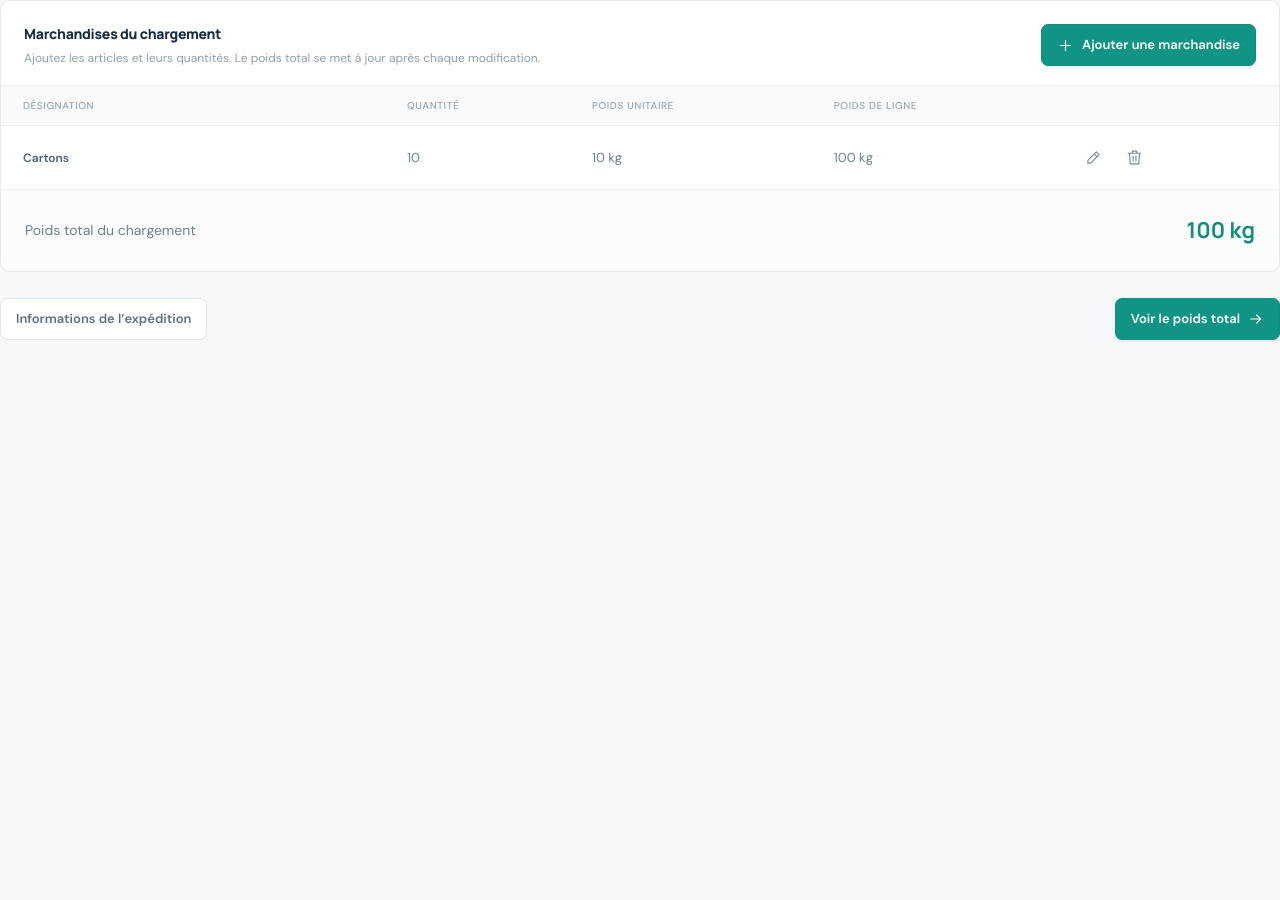
Test: ajoute une ligne et affiche le poids recalculé par le service
Click the button "Ajouter une marchandise": (1149, 45) left=1041, top=24, right=1256, bottom=66
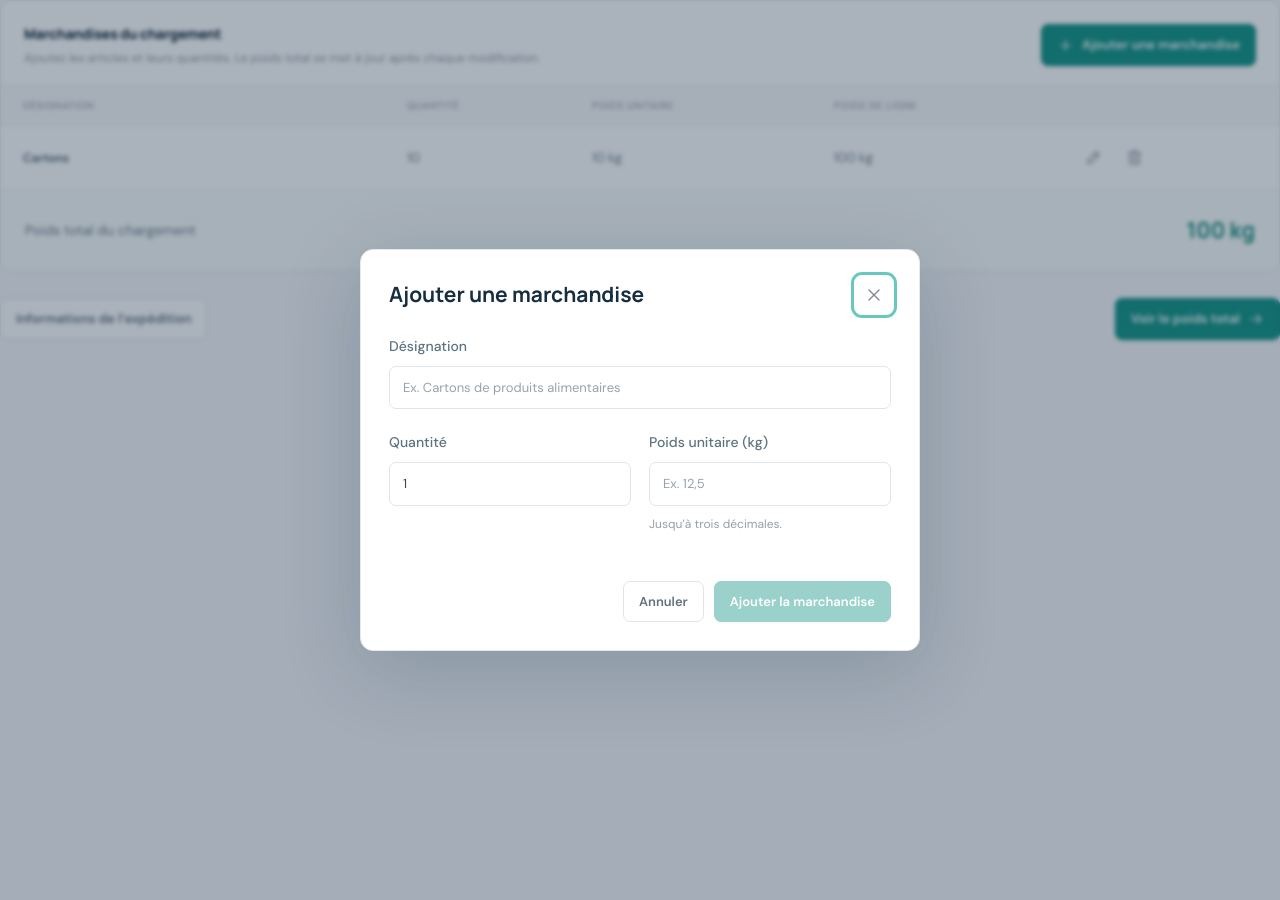
In the field labelled "Désignation": (640, 388) left=389, top=366, right=891, bottom=409, type "Sacs"
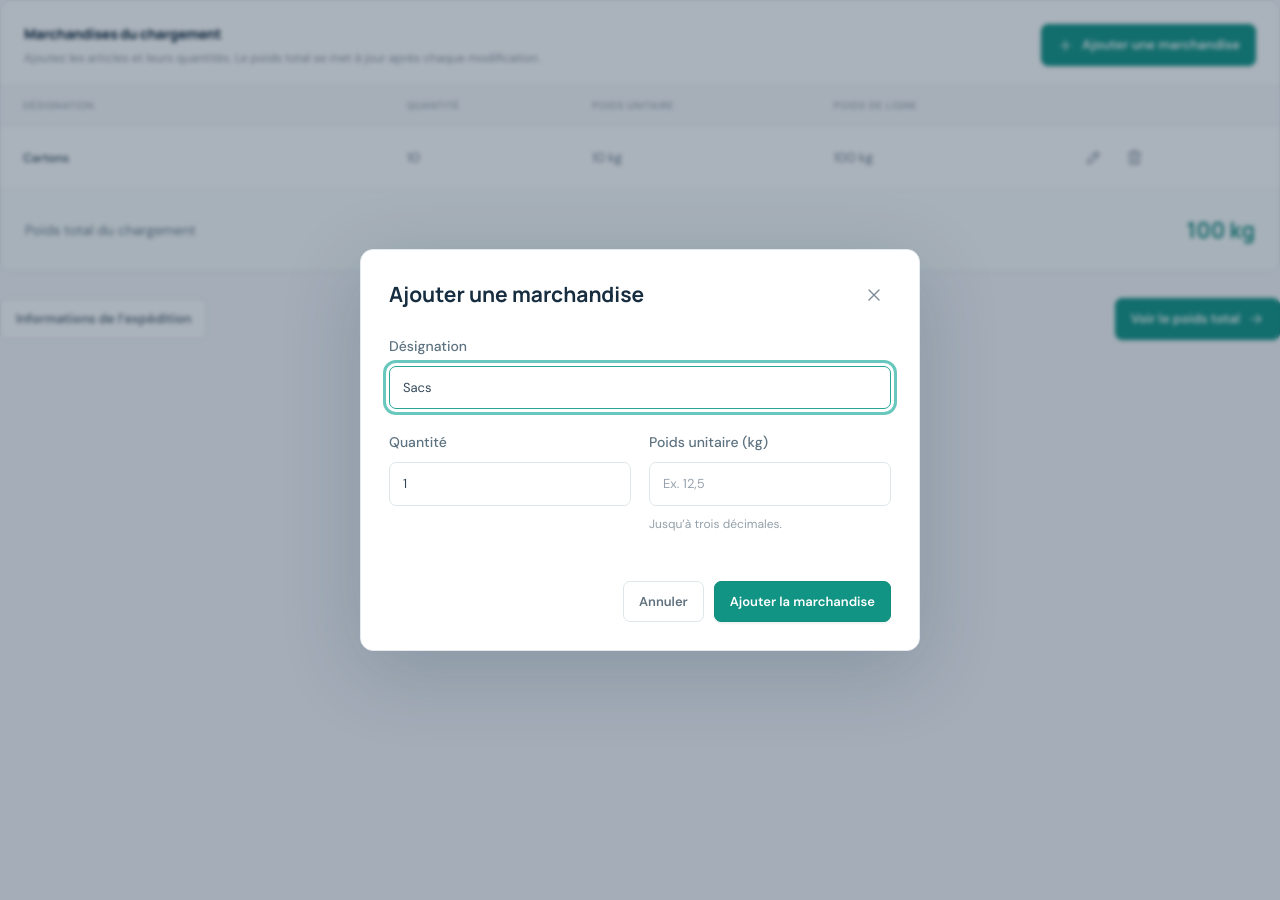
Replace the text in the number field labelled "Quantité" with "2": (510, 484) left=389, top=462, right=631, bottom=506
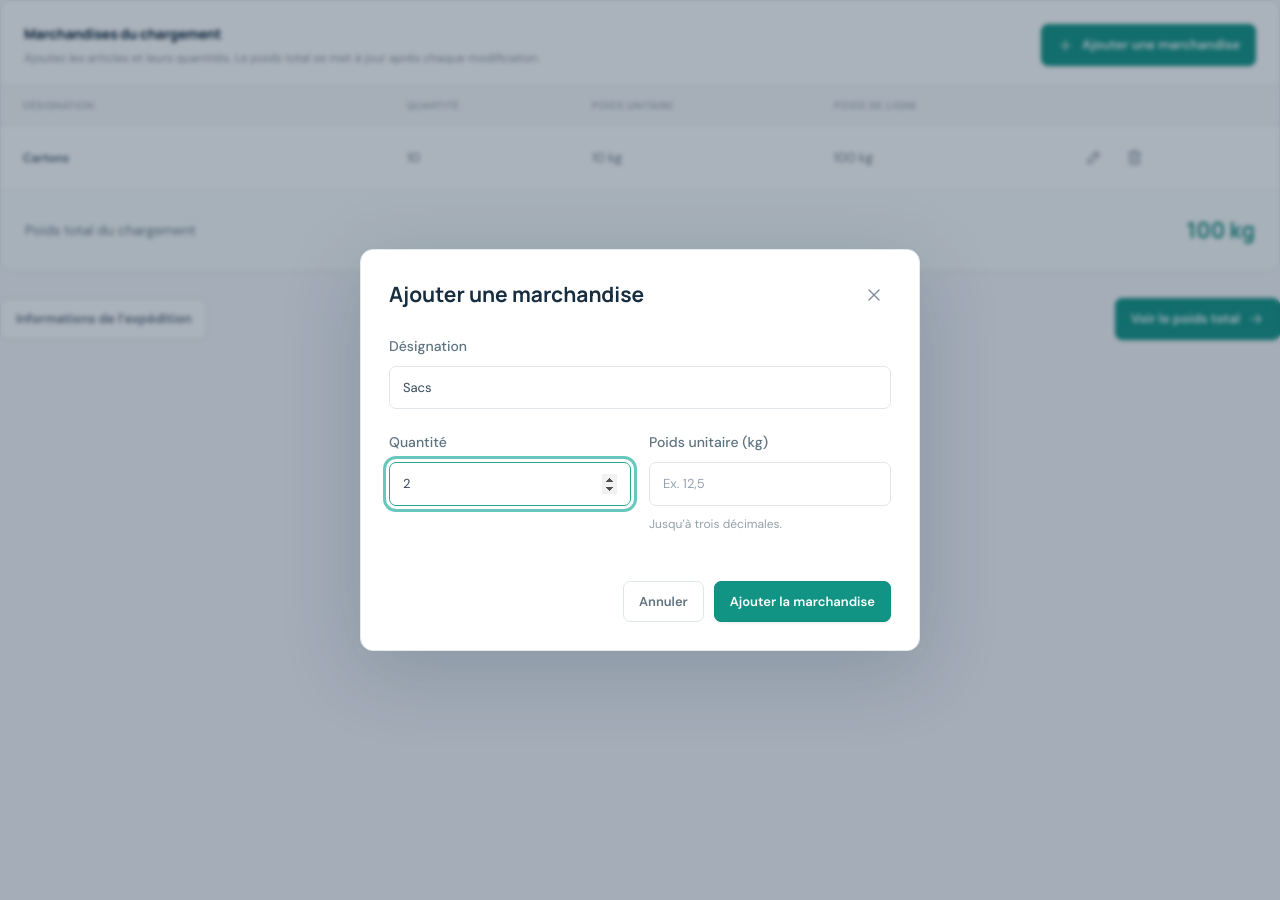
In the number field labelled "Poids unitaire (kg)": (770, 484) left=649, top=462, right=891, bottom=506, type "25"
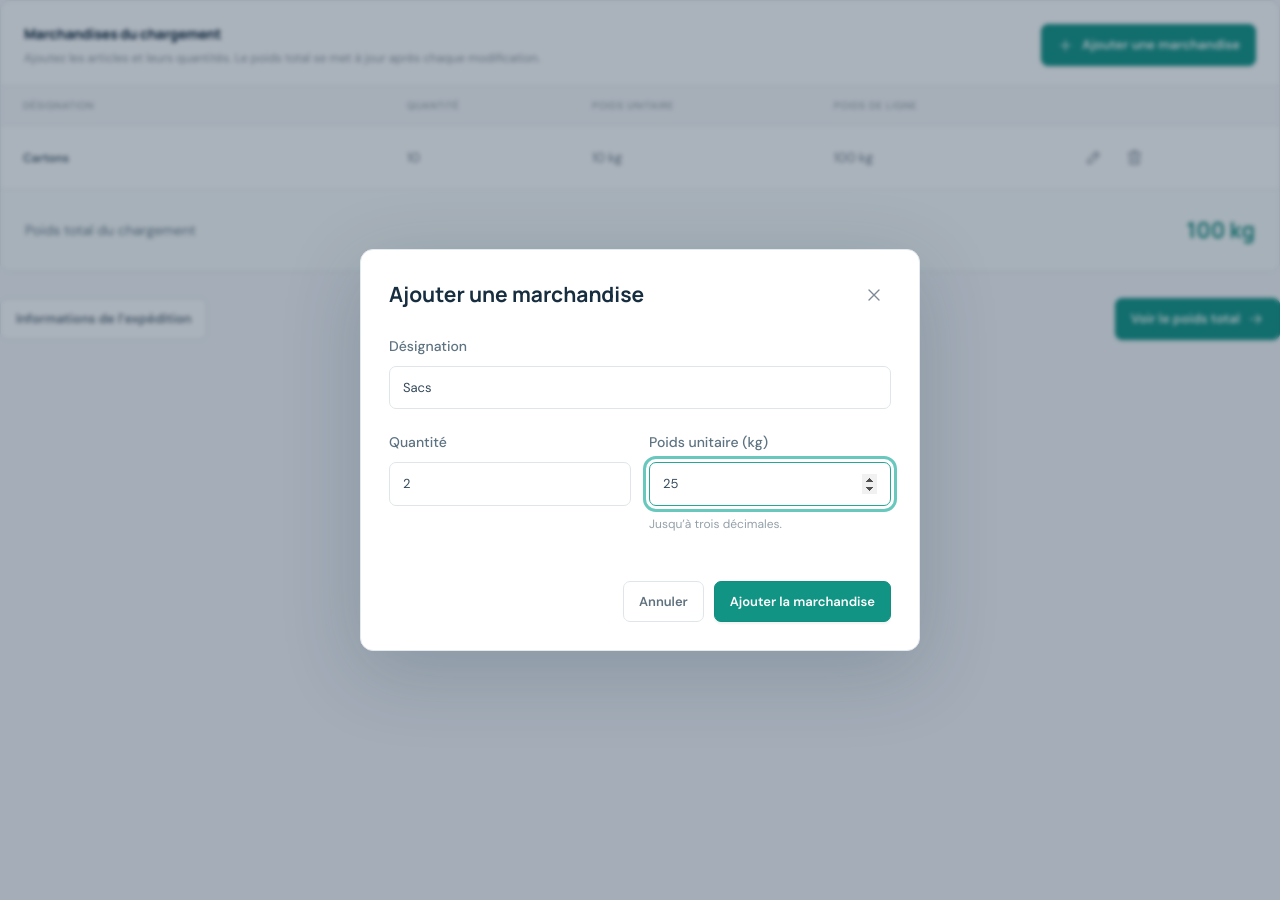
Click the button "Ajouter la marchandise": (802, 602) left=714, top=581, right=891, bottom=622
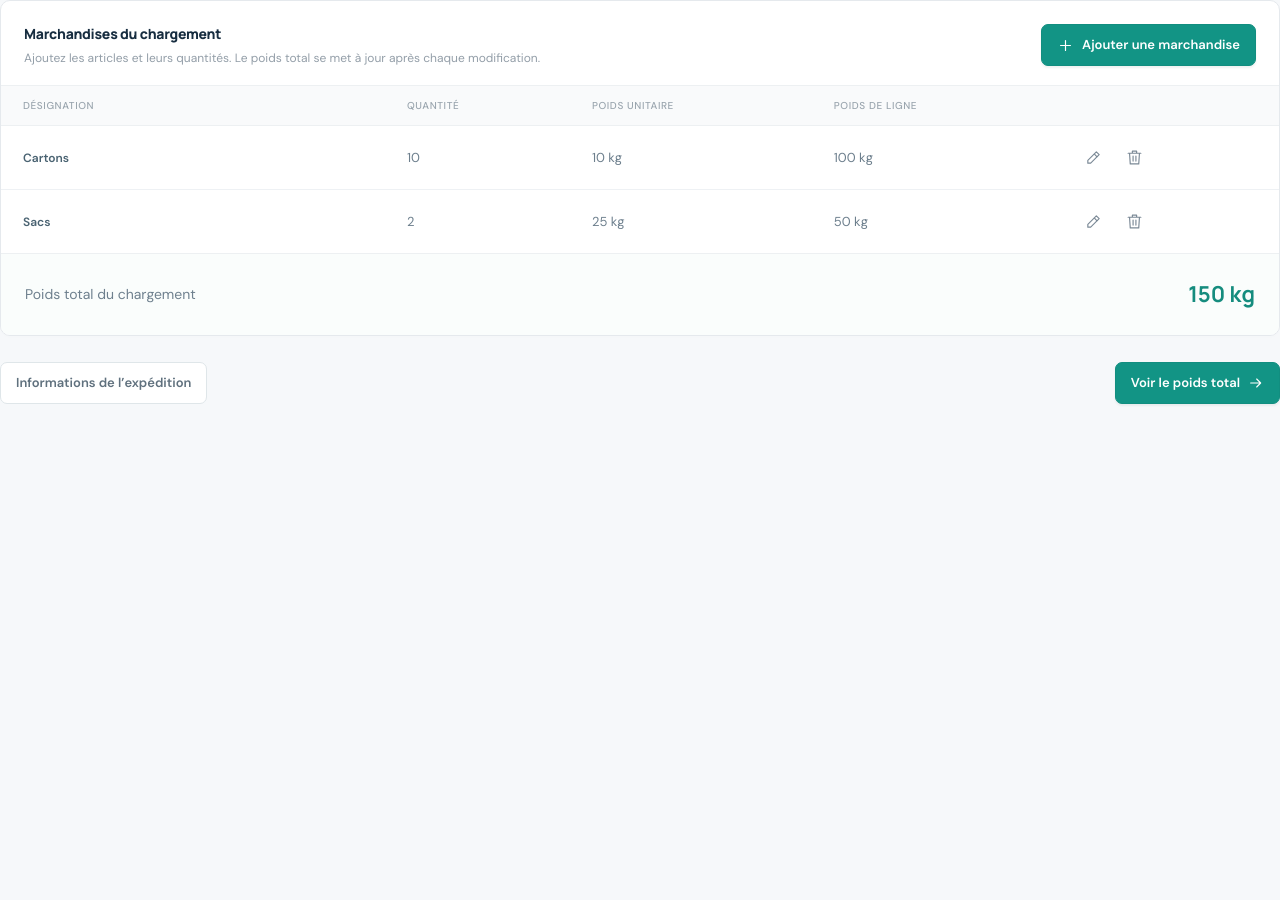
Check: the cell "Sacs" is shown, box left=1, top=190, right=385, bottom=253
Check: the text "150 kg" is shown, box left=1188, top=278, right=1255, bottom=311
